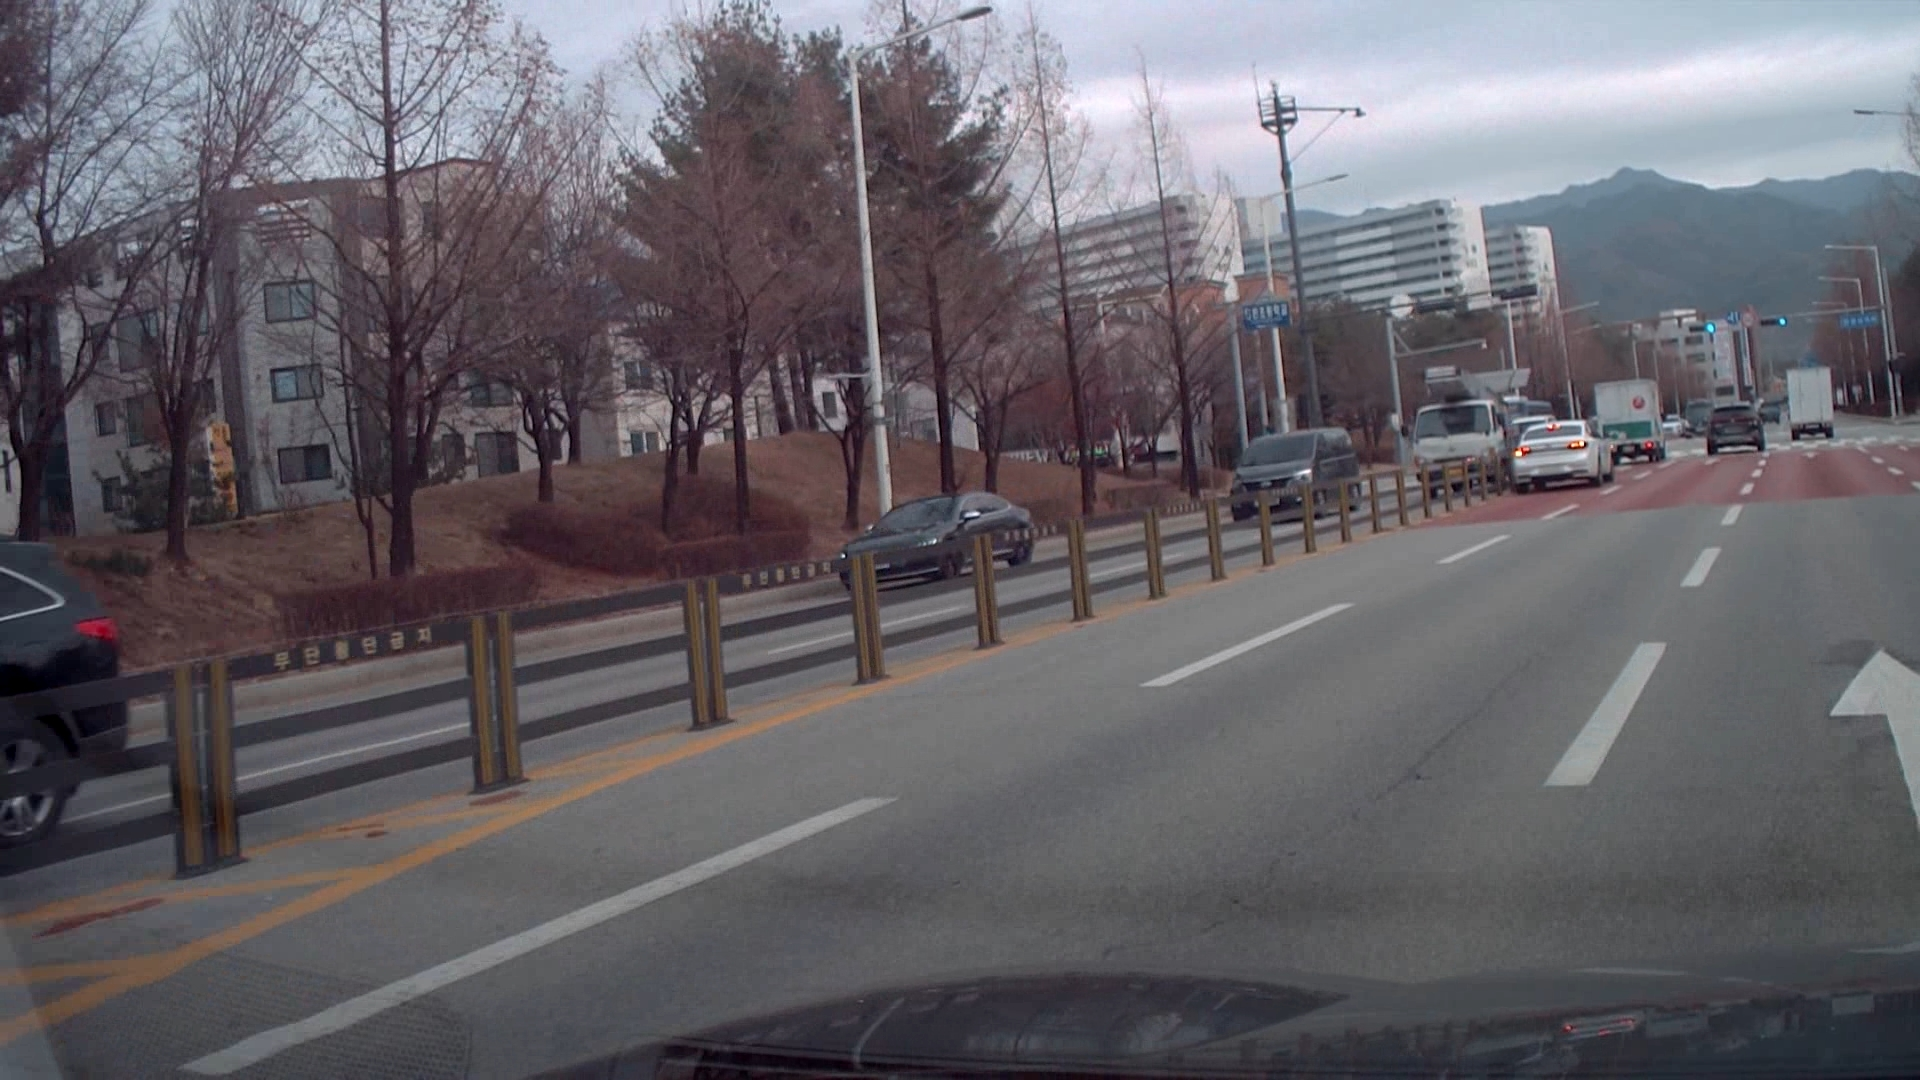trafficLight: (1684, 314, 1793, 335)
